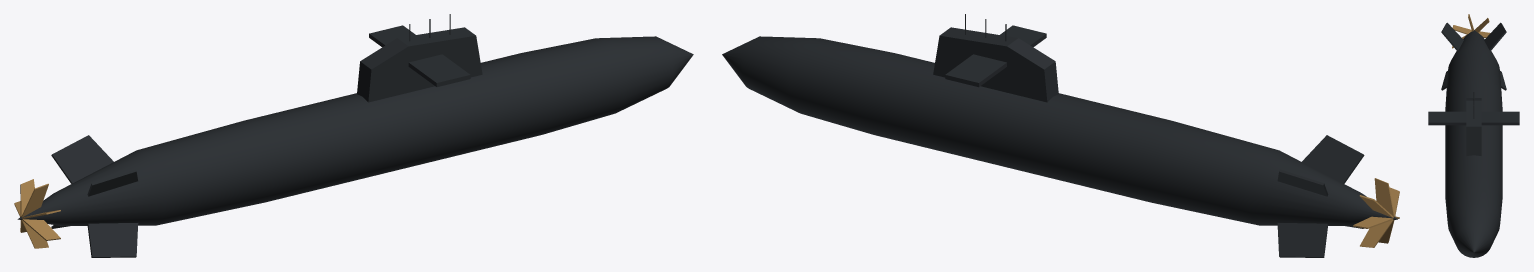
The model's file is jmsdf_ssk_taigei.glb.
3 views of the same model, side by side, from view 1: azimuth 30°, elevation 25°; view 2: azimuth 150°, elevation 25°; view 3: azimuth 270°, elevation 25° (orthographic). The views are drawn at different scales.
Parts seen in each view (by area): view 1: rubber, bronze; view 2: rubber, bronze; view 3: rubber, bronze.
Part boxes in pixels (bbox=[...]): rubber: bbox=[17, 14, 693, 257]; bronze: bbox=[14, 179, 60, 248]; rubber: bbox=[722, 14, 1397, 257]; bronze: bbox=[1353, 178, 1399, 247]; rubber: bbox=[1428, 22, 1519, 257]; bronze: bbox=[1452, 14, 1490, 48].
Size of the model in its own units: 10 by 2.03 by 1.73.
